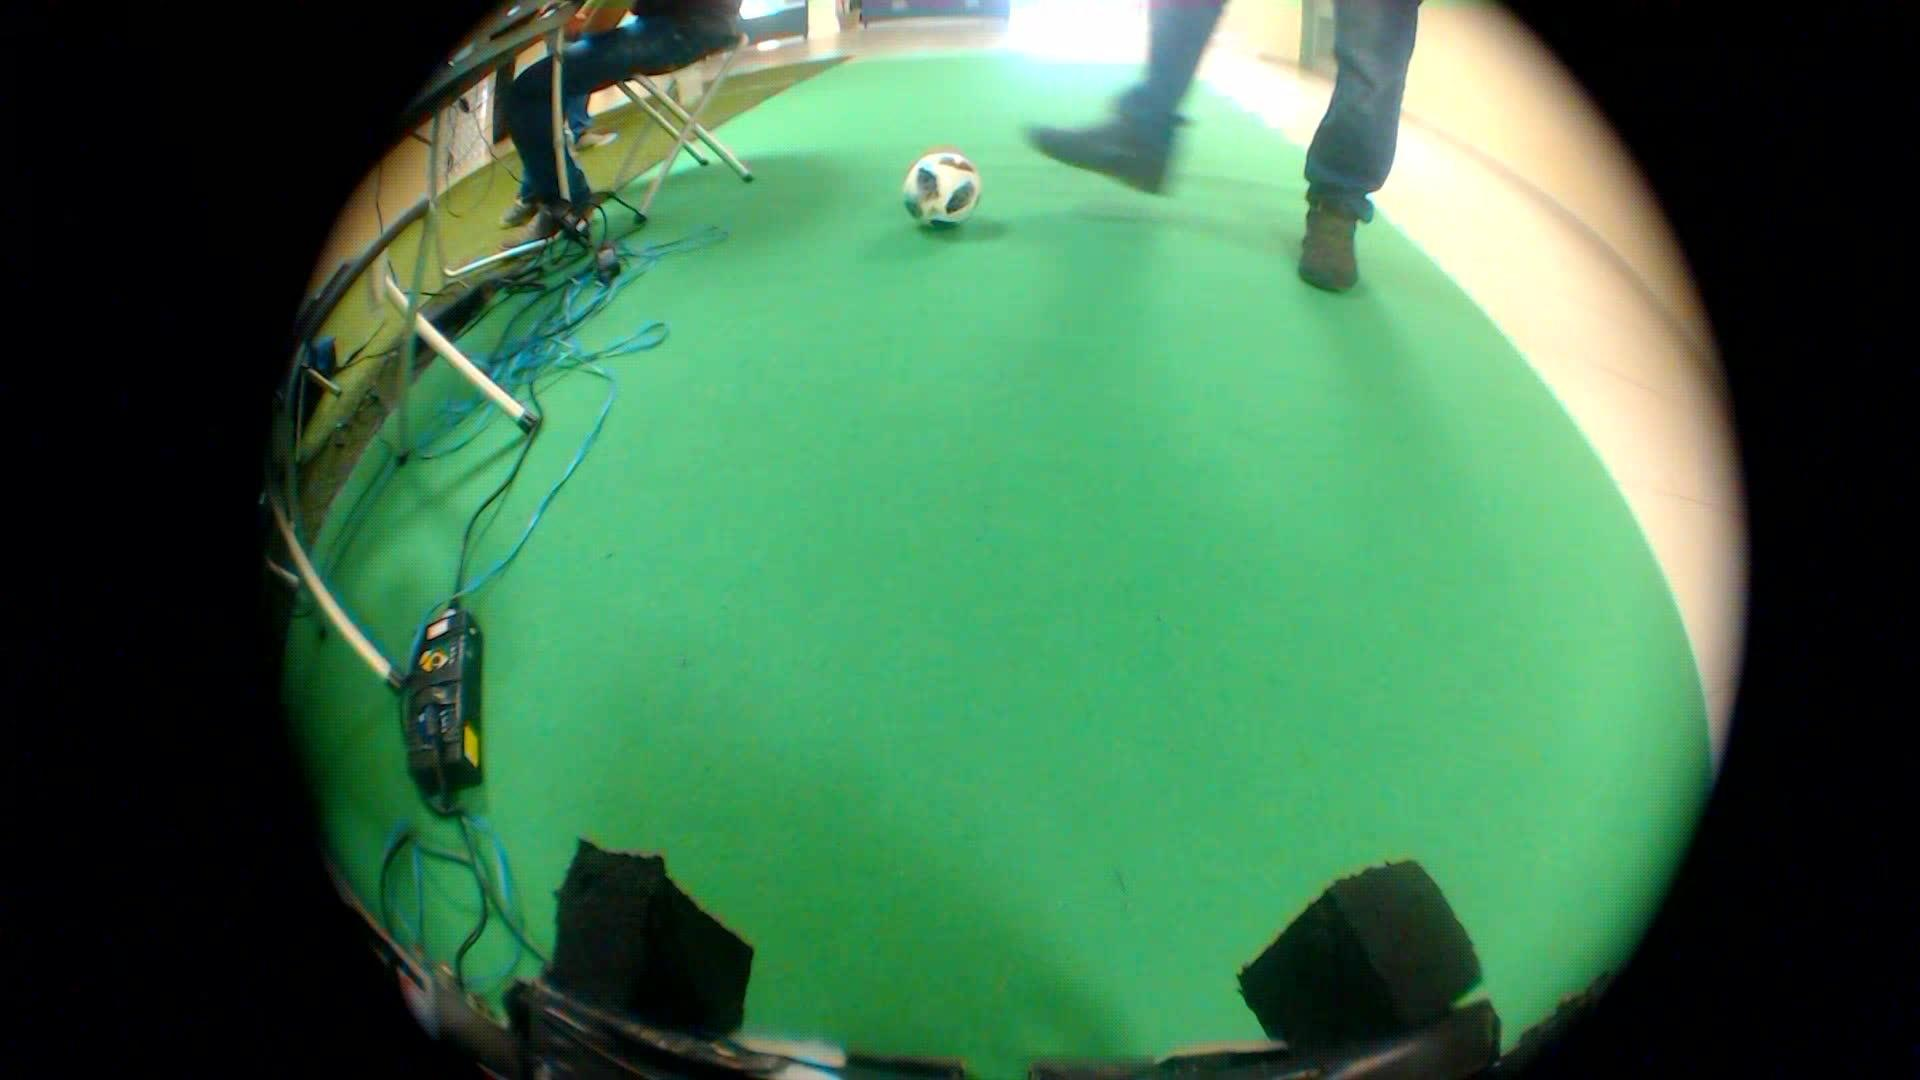ball: (895, 133, 982, 229)
